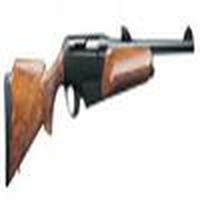gun: (3, 33, 200, 146)
